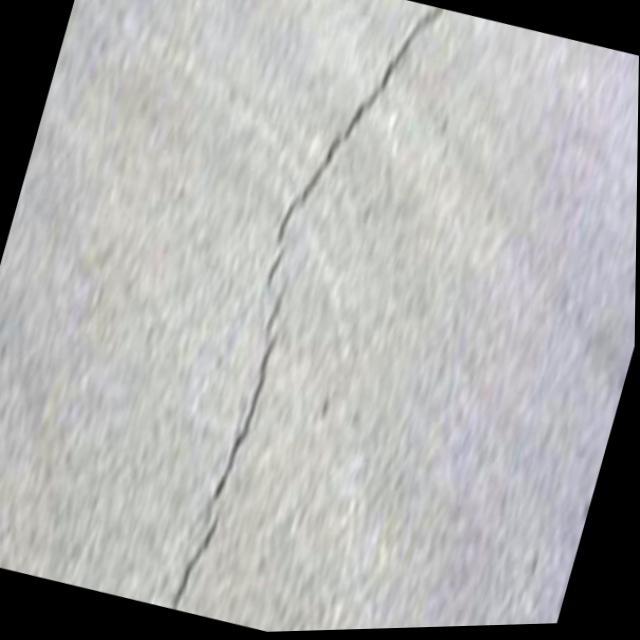Crack: (144, 0, 487, 636)
